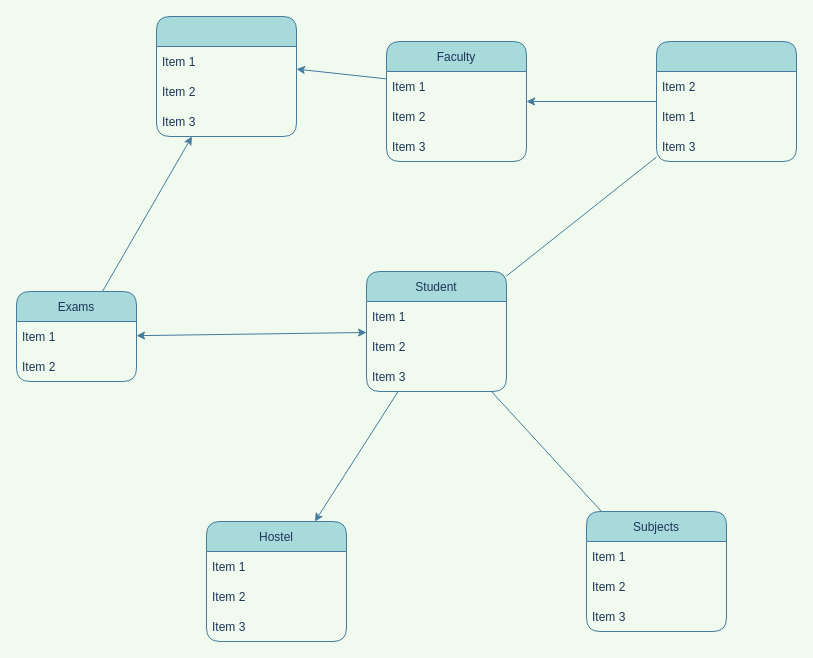
Some shapes in this 813 by 658 pixel diagram are drawn without their labels. The shapes that lost their labels are listed below. From the top down, each one's box as (x1, y1, x2, y2) in pixels, then its label:
(156, 16, 296, 136): Department
(656, 40, 796, 162): Professor
